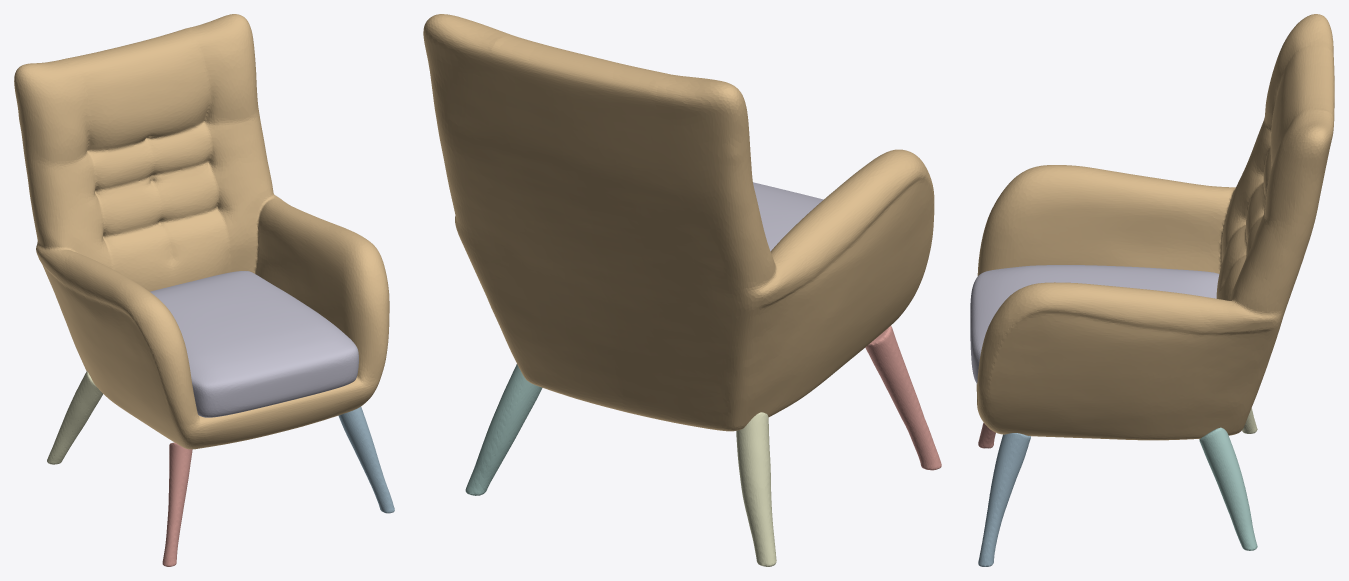
File: chair.glb
3 renders of one model, left to right at view 1: azimuth 30°, elevation 25°; view 2: azimuth 150°, elevation 25°; view 3: azimuth 270°, elevation 25°, orthographic. The views are drawn at different scales.
Visible parts, largest first — view 1: world; view 2: world; view 3: world.
Part boxes in pixels (box(x1,y1,x2,y2)): world: box(14, 14, 394, 566); world: box(423, 14, 941, 566); world: box(970, 14, 1334, 566).
Size of the model in its own units: 1.22 by 1.81 by 1.38.
